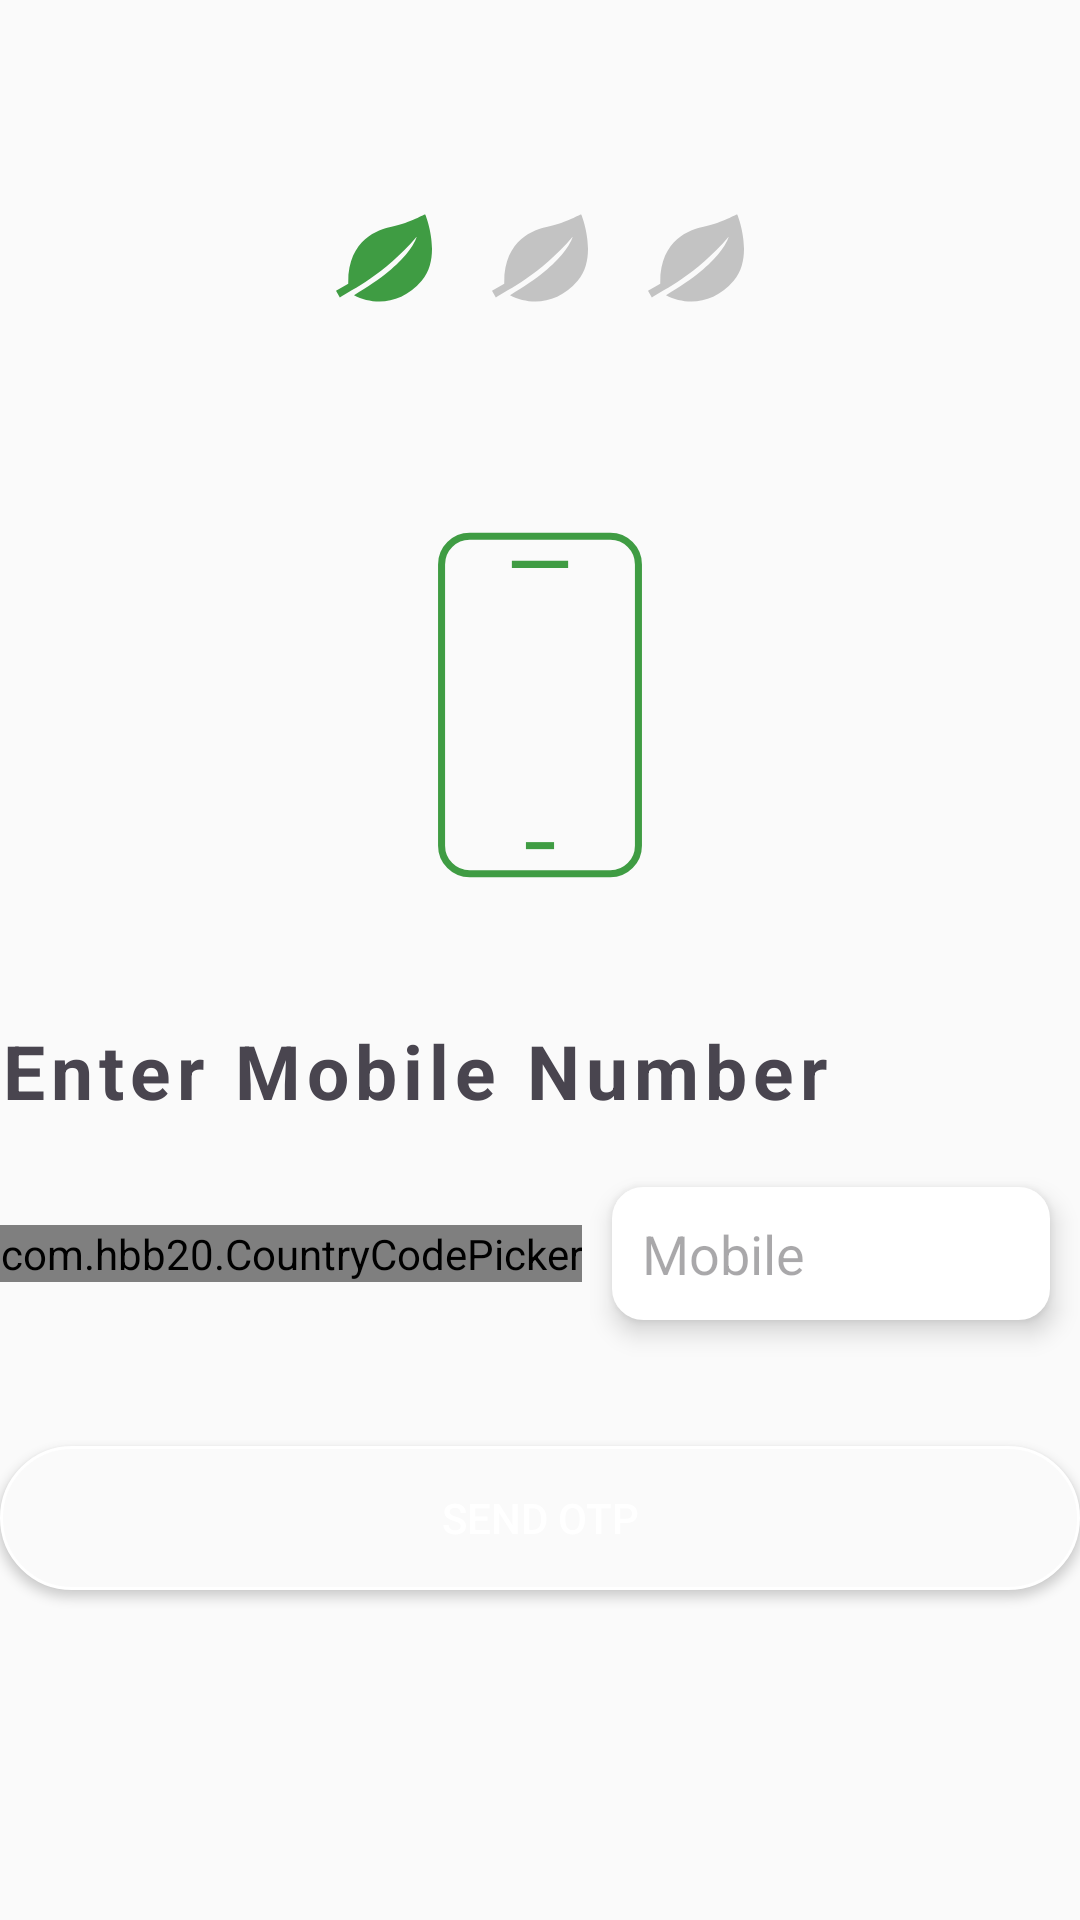

Locate icon controls on the screen. Image size 1080px×1920px, boxes as (x1, y1, x2, y2).
phone mobile: (438, 532, 642, 878)
